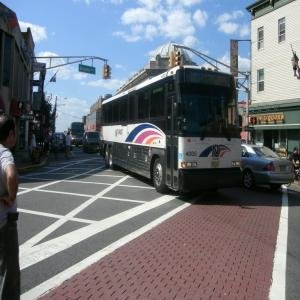Vehicle-registration-plate: (213, 162, 220, 168), (281, 166, 287, 171)
